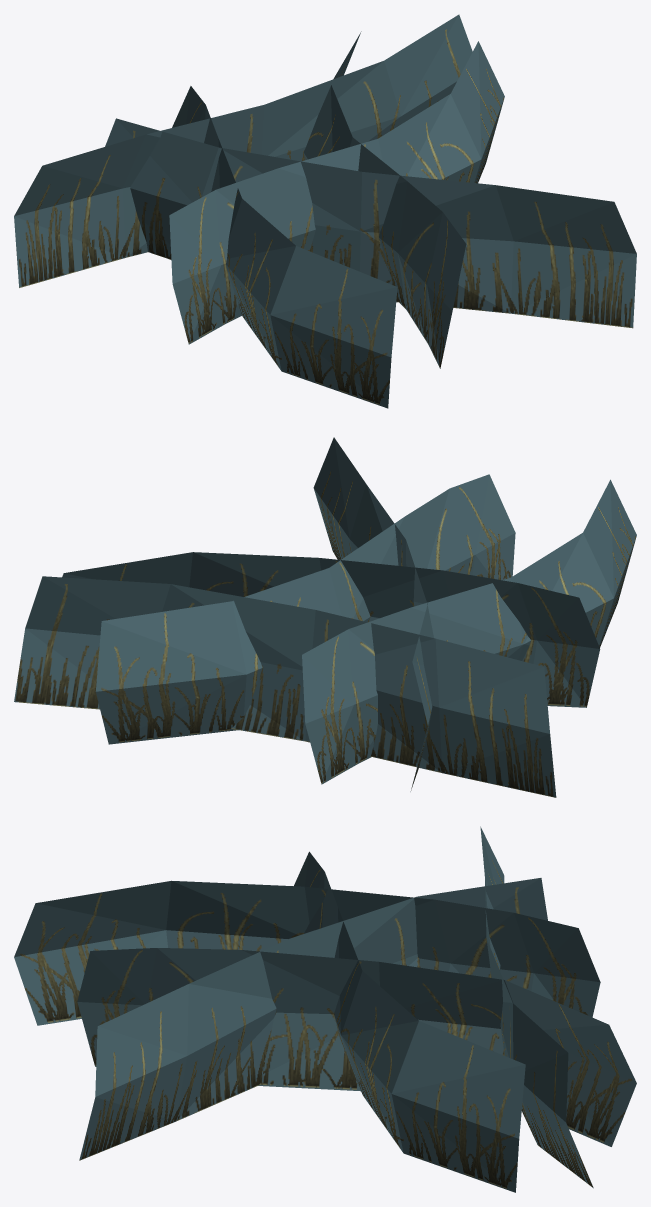
Rendered from grass-share2.obj.
3 renders of one model, top to bottom at view 1: azimuth 30°, elevation 25°; view 2: azimuth 150°, elevation 25°; view 3: azimuth 270°, elevation 25°, orthographic. The views are drawn at different scales.
Visible parts, largest first — view 1: grass_patch_grass_patch_d.012; view 2: grass_patch_grass_patch_d.012; view 3: grass_patch_grass_patch_d.012.
Part boxes in pixels (x1,y1,x2,y2): grass_patch_grass_patch_d.012: (14,14,636,408); grass_patch_grass_patch_d.012: (14,437,636,797); grass_patch_grass_patch_d.012: (14,826,636,1192).
Size of the model in its own units: 1.88 by 0.4744 by 1.92.
1 material, 1 textured.
